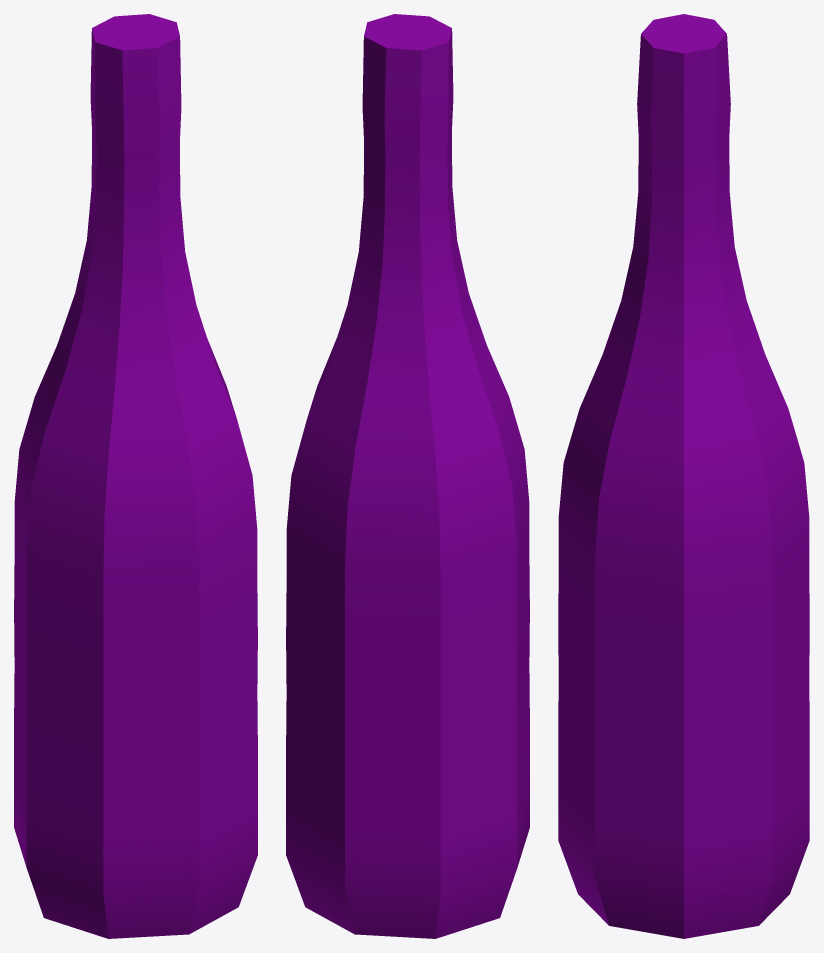
The model's file is WineBottle.fbx.
3 renders of one model, left to right at view 1: azimuth 30°, elevation 25°; view 2: azimuth 150°, elevation 25°; view 3: azimuth 270°, elevation 25°, orthographic.
Parts seen in each view (by area): view 1: WineBottle; view 2: WineBottle; view 3: WineBottle.
Part boxes in pixels (x1=…): WineBottle: x1=14, y1=14, x2=257, y2=938; WineBottle: x1=286, y1=14, x2=529, y2=938; WineBottle: x1=558, y1=14, x2=809, y2=938.
Bounding box in the file's own units: 4.76 × 17.94 × 4.76.
